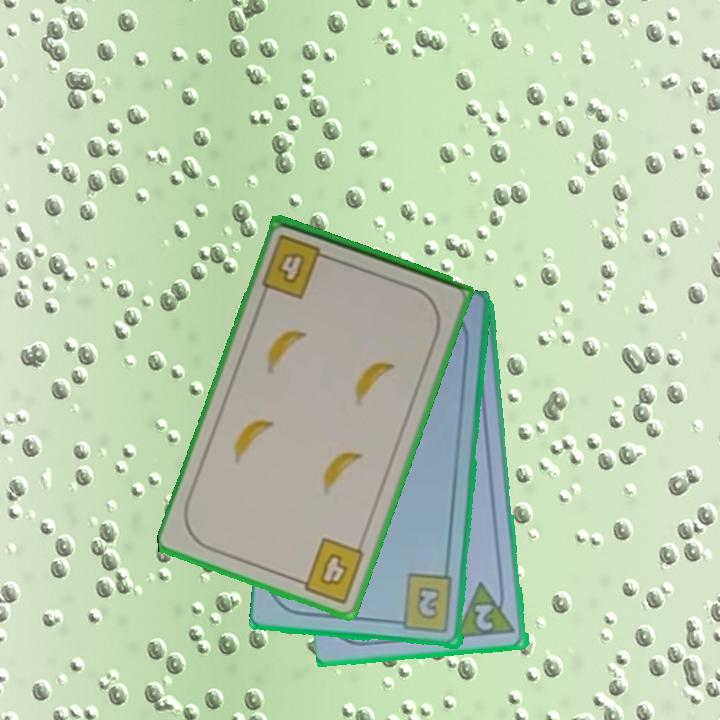2b: (390, 571, 456, 636)
2p: (454, 578, 519, 642)
4b: (291, 534, 368, 607), (258, 231, 336, 302)
